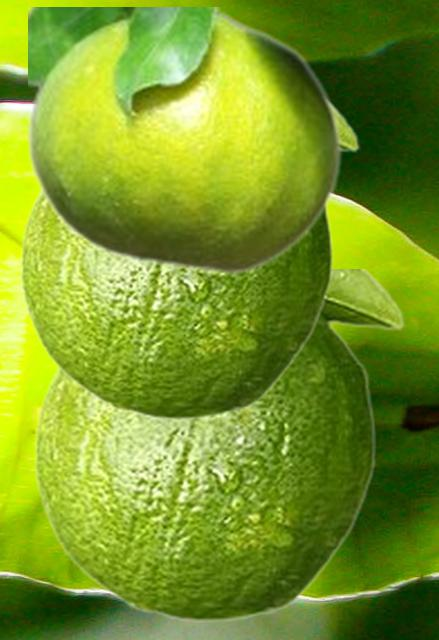dalandan: (33, 269, 404, 621), (19, 99, 359, 419), (28, 7, 342, 275)
